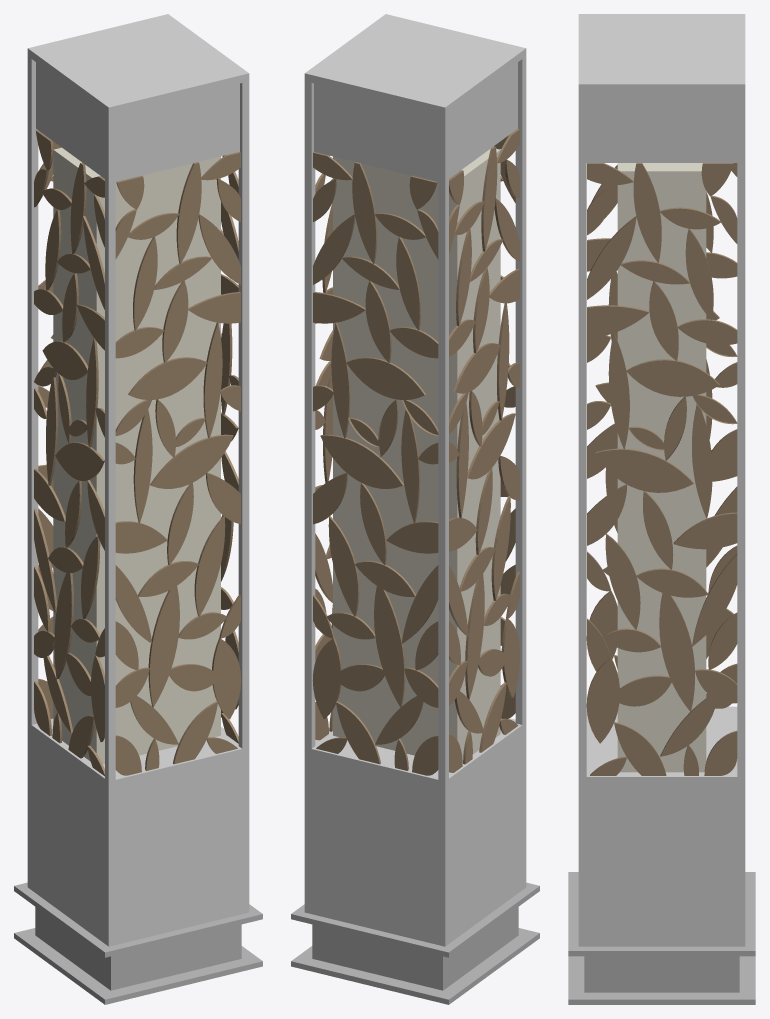
3 views of the same model, side by side, from view 1: azimuth 30°, elevation 25°; view 2: azimuth 150°, elevation 25°; view 3: azimuth 270°, elevation 25° (orthographic). The views are drawn at different scales.
Visible parts, largest first — view 1: Group_295; view 2: Group_295; view 3: Group_295.
Part boxes in pixels (x1=…): Group_295: x1=14, y1=14, x2=262, y2=1004; Group_295: x1=291, y1=14, x2=539, y2=1004; Group_295: x1=568, y1=14, x2=755, y2=1004.
Size of the model in its own units: 16.26 by 87.8 by 16.26.
